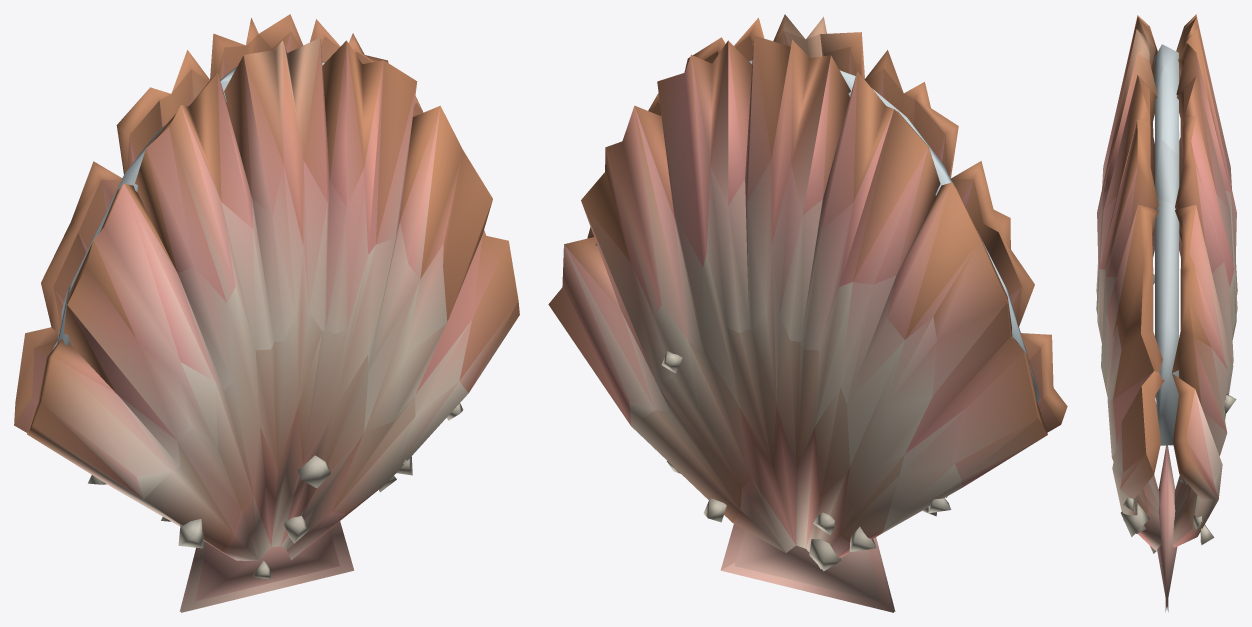
File: shore_clam_seal_lod2.glb
3 views of the same model, side by side, from view 1: azimuth 30°, elevation 25°; view 2: azimuth 150°, elevation 25°; view 3: azimuth 270°, elevation 25° (orthographic). The views are drawn at different scales.
Parts seen in each view (by area): view 1: shore_clam_seal.001; view 2: shore_clam_seal.001; view 3: shore_clam_seal.001.
Boxes of the visible parts, left/top/right/bottom form: shore_clam_seal.001: left=14, top=14, right=519, bottom=612; shore_clam_seal.001: left=548, top=14, right=1067, bottom=612; shore_clam_seal.001: left=1096, top=14, right=1237, bottom=611.
Size of the model in its own units: 8.9 by 9.7 by 2.29.
